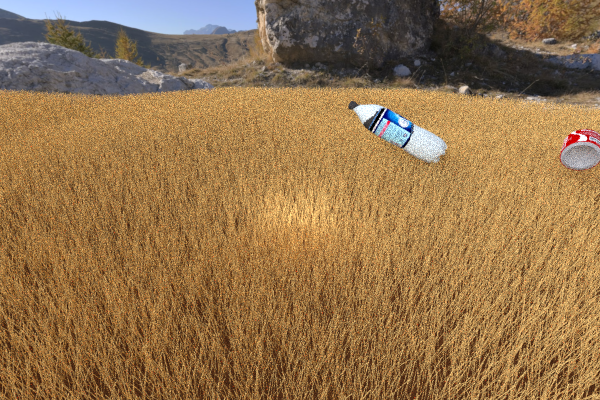Plastic Bottle: (347, 100, 447, 163), (559, 129, 600, 170)
